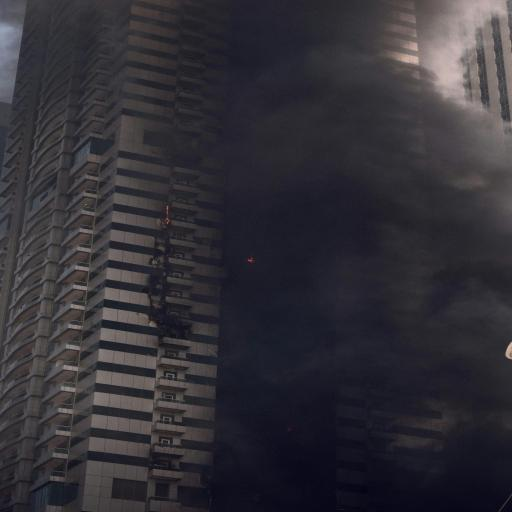buildingfire: (0, 0, 512, 512)
smoke: (186, 47, 512, 447)
